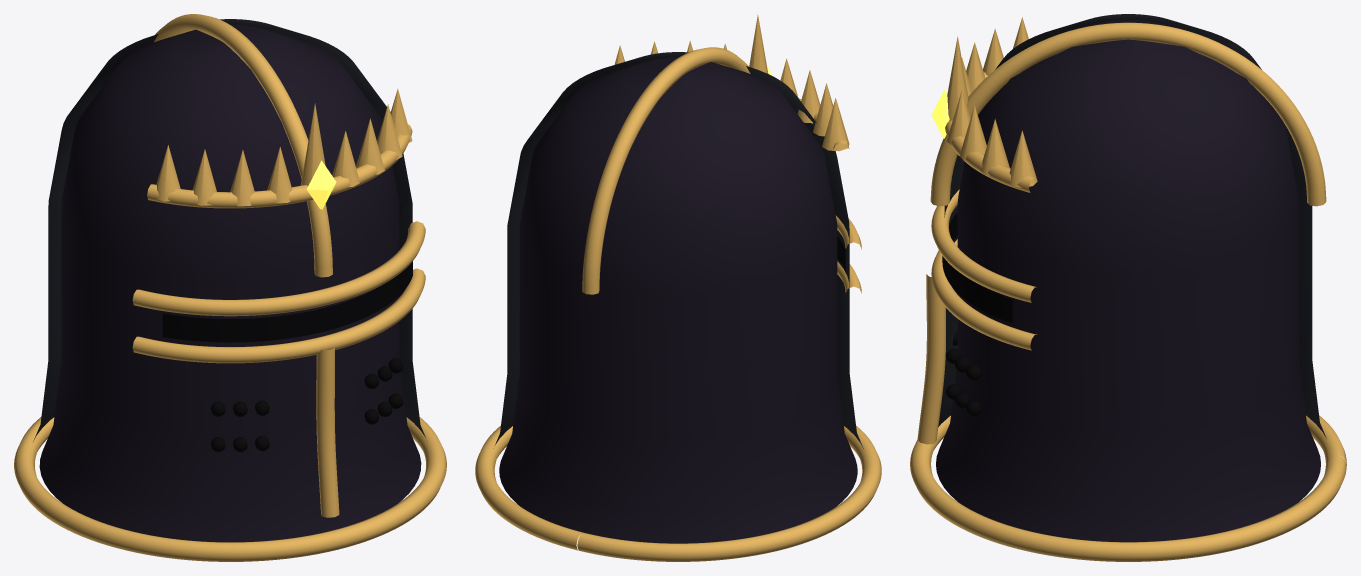
The model's file is helmet.glb.
3 renders of one model, left to right at view 1: azimuth 30°, elevation 25°; view 2: azimuth 150°, elevation 25°; view 3: azimuth 270°, elevation 25°, orthographic. The views are drawn at different scales.
Visible parts, largest first — view 1: lining, goldTrim, helm, visorSlit, breaths, crownGem; view 2: lining, goldTrim, helm; view 3: lining, goldTrim, helm, visorSlit, breaths.
Part boxes in pixels (x1,y1,x2,y2): lining: [39, 24, 421, 542]; goldTrim: [14, 14, 446, 561]; helm: [33, 19, 425, 441]; visorSlit: [162, 261, 412, 342]; breaths: [210, 358, 403, 452]; crownGem: [306, 160, 336, 209]; lining: [499, 57, 857, 543]; goldTrim: [475, 15, 881, 561]; helm: [493, 52, 863, 448]; lining: [936, 19, 1320, 542]; goldTrim: [910, 17, 1346, 561]; helm: [938, 14, 1326, 438]; visorSlit: [942, 212, 1012, 323]; breaths: [946, 331, 981, 416].
Bounding box in the file's own units: 0.9977 × 1.14 × 0.998.
Materials: 6 (1 with a texture image).
